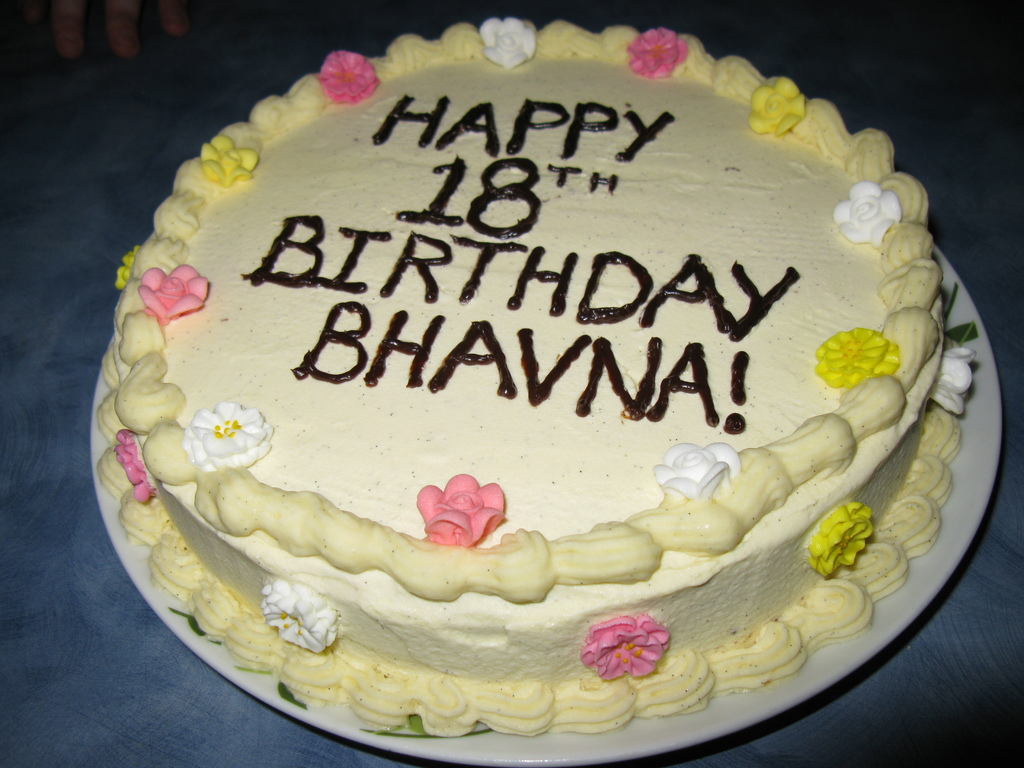cake: (97, 20, 975, 738)
